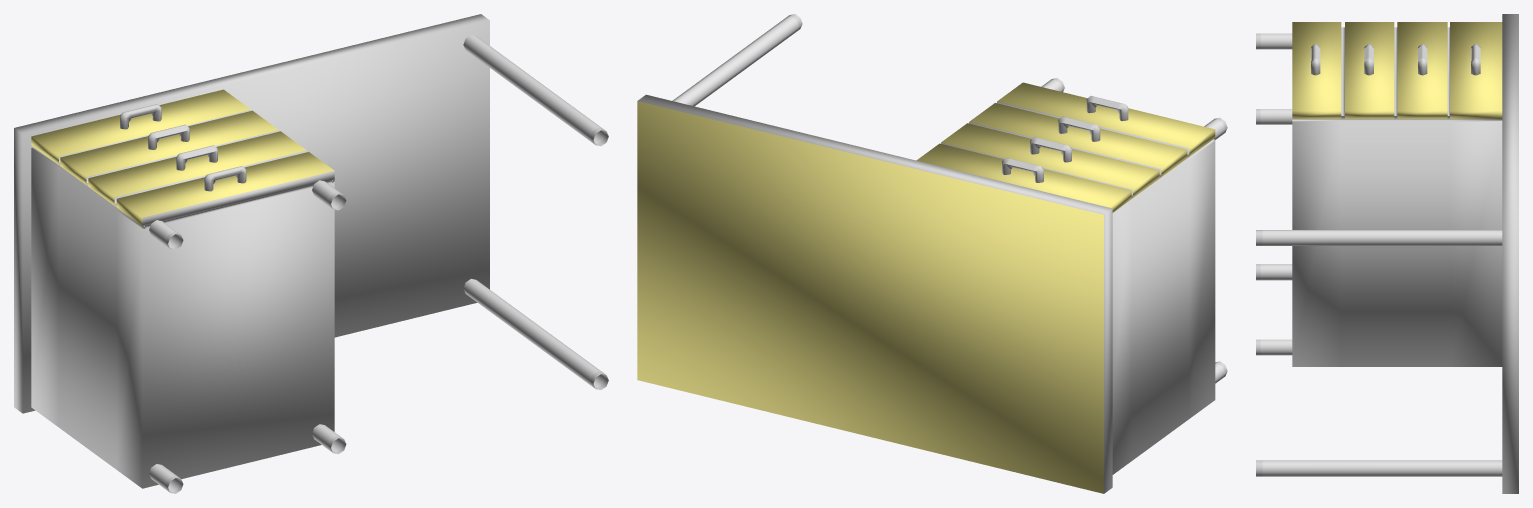
3 renders of one model, left to right at view 1: azimuth 30°, elevation 25°; view 2: azimuth 150°, elevation 25°; view 3: azimuth 270°, elevation 25°, orthographic. The views are drawn at different scales.
Parts seen in each view (by area): view 1: Circle.005; view 2: Circle.005; view 3: Circle.005.
Boxes of the visible parts, bbox=[...] form: Circle.005: bbox=[14, 14, 608, 493]; Circle.005: bbox=[637, 14, 1227, 493]; Circle.005: bbox=[1256, 14, 1518, 493].
Bounding box in the file's own units: 140 × 83.05 × 72.11.
